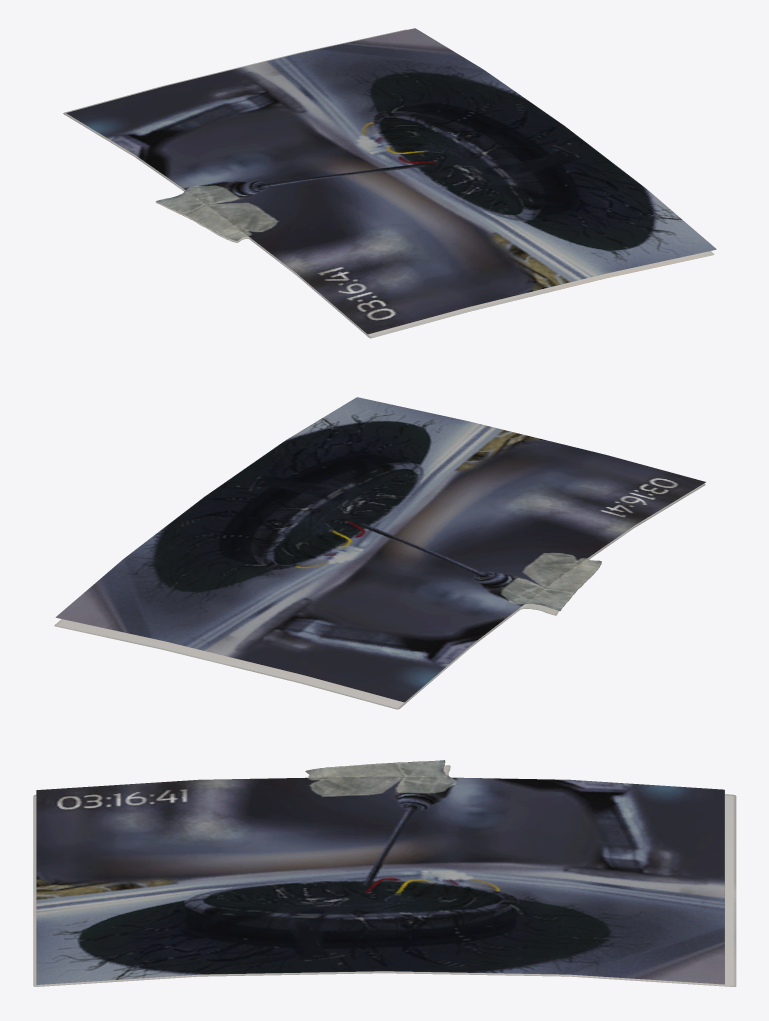
Rendered from 03_02_gel_photo_03.DAE.
3 renders of one model, top to bottom at view 1: azimuth 30°, elevation 25°; view 2: azimuth 150°, elevation 25°; view 3: azimuth 270°, elevation 25°, orthographic. The views are drawn at different scales.
Visible parts, largest first — view 1: photograph_world01; view 2: photograph_world01; view 3: photograph_world01.
Part boxes in pixels (x1,y1,x2,y2): photograph_world01: (63,28,716,338); photograph_world01: (54,397,705,709); photograph_world01: (33,760,736,986).
Size of the model in its own units: 0.1526 by 0.0072 by 0.2062.
